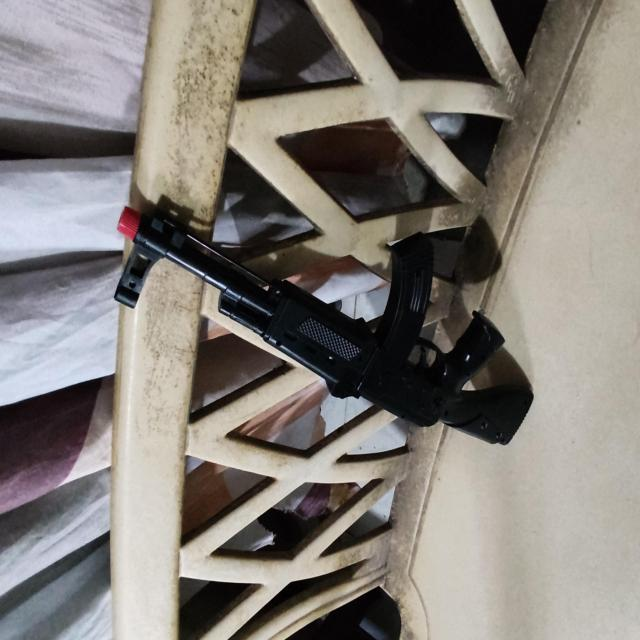rifle: (114, 204, 533, 446)
